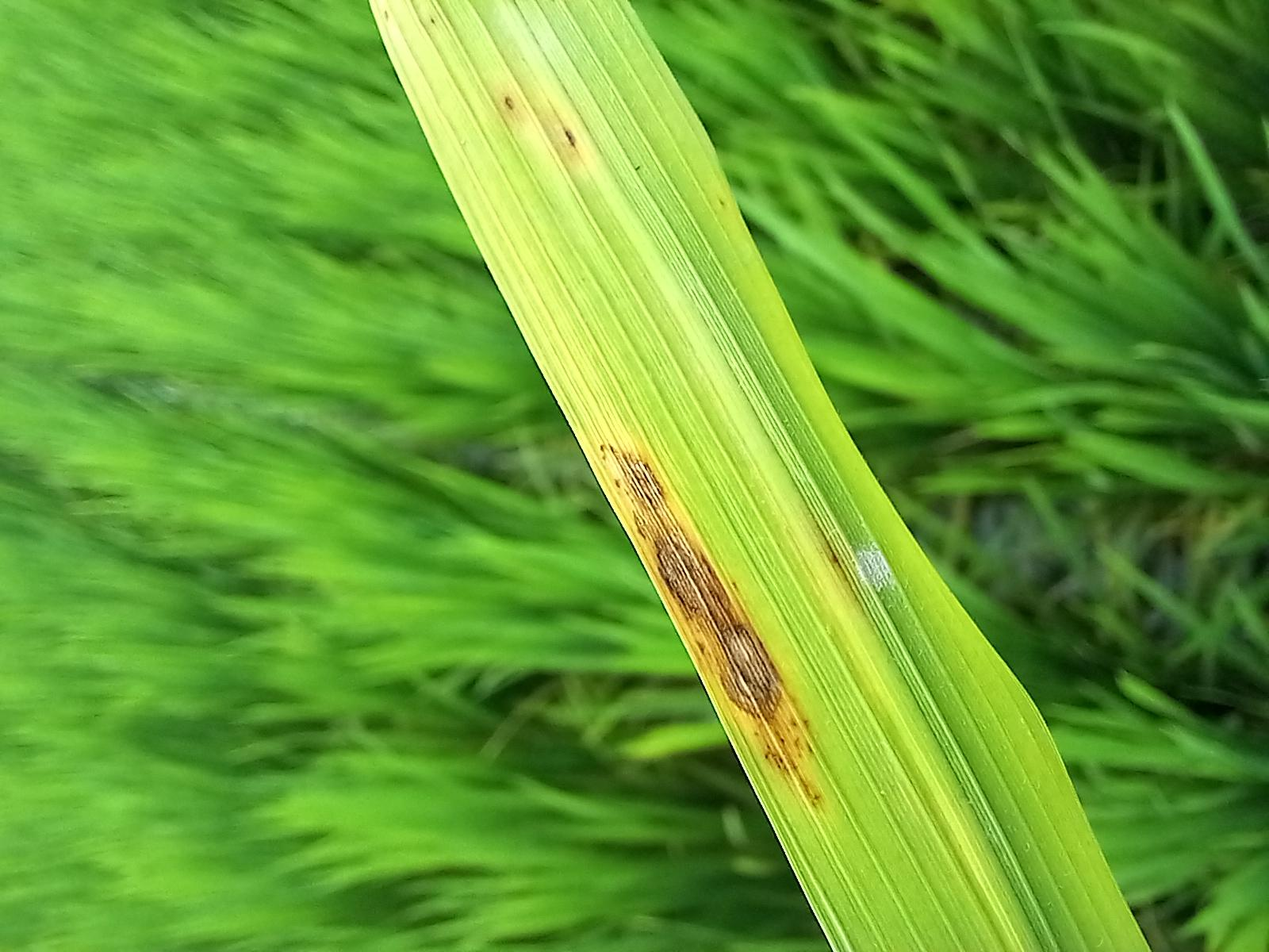LEAF: (0, 278, 1268, 860)
LEAF BLAST: (187, 433, 697, 617)
